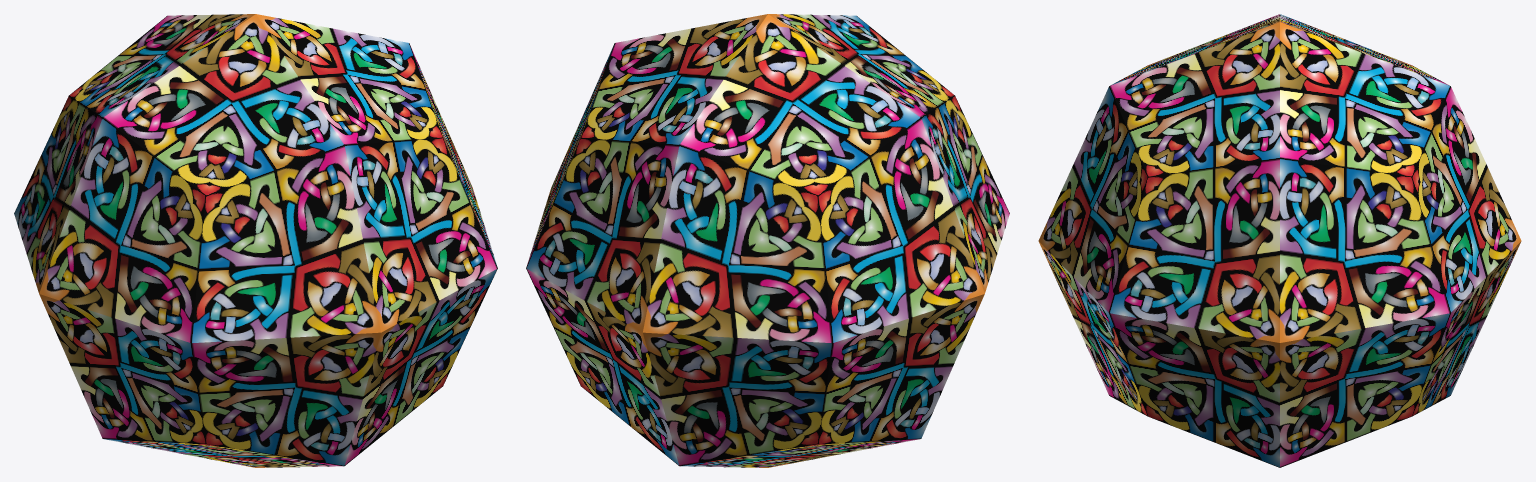
The model's file is 33DeltoidalIcositetrahedron.obj.
3 views of the same model, side by side, from view 1: azimuth 30°, elevation 25°; view 2: azimuth 150°, elevation 25°; view 3: azimuth 270°, elevation 25° (orthographic). The views are drawn at different scales.
Bounding box in the file's own units: 2.83 × 2.83 × 2.83.
Materials: 1 (1 with a texture image).
